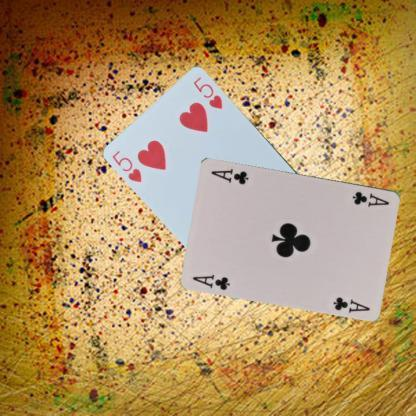5h: (110, 147, 144, 184)
Ac: (190, 272, 232, 292), (350, 188, 391, 208)
